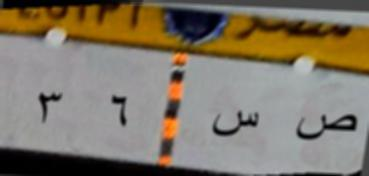3: (24, 86, 76, 129)
6: (104, 89, 136, 136)
saad: (289, 106, 358, 156)
seen: (202, 109, 262, 146)
